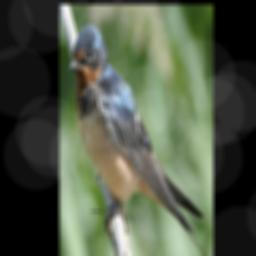Swallow: (67, 23, 211, 256)
